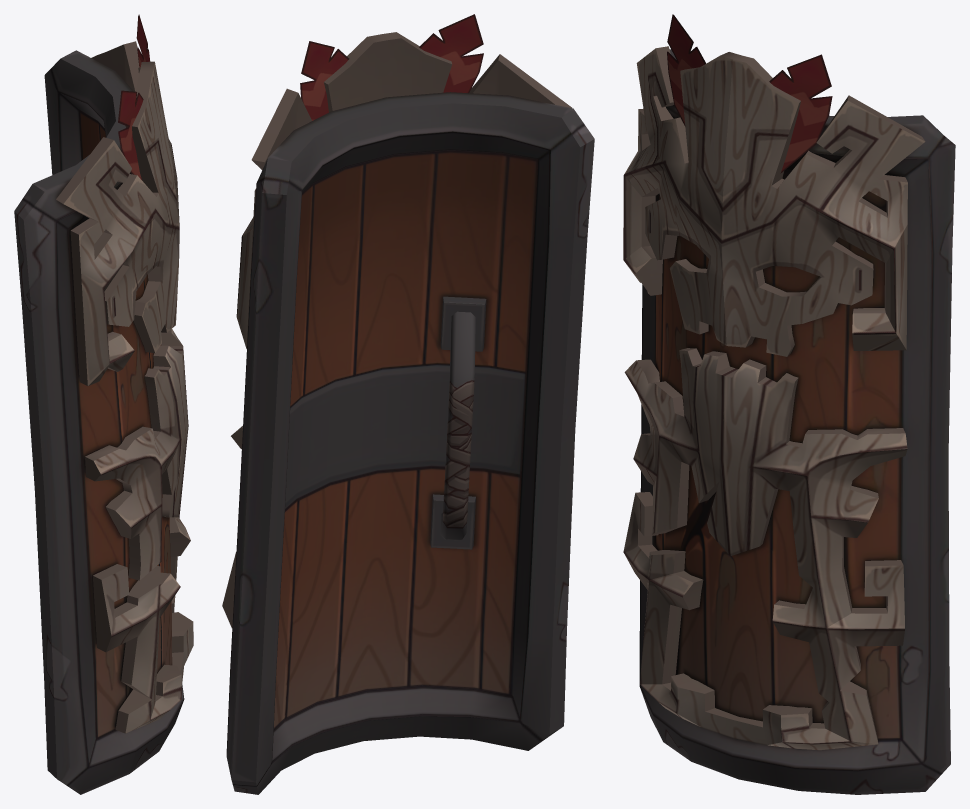
File: MonEquip_Shield_02_Model.fbx
3 renders of one model, left to right at view 1: azimuth 30°, elevation 25°; view 2: azimuth 150°, elevation 25°; view 3: azimuth 270°, elevation 25°, orthographic. The views are drawn at different scales.
Visible parts, largest first — view 1: MonEquip_Shield_02_Model; view 2: MonEquip_Shield_02_Model; view 3: MonEquip_Shield_02_Model.
Boxes of the visible parts, x1,y1,x2,y2 form: MonEquip_Shield_02_Model: (14,14,193,794); MonEquip_Shield_02_Model: (222,14,594,794); MonEquip_Shield_02_Model: (623,14,955,794).
Bounding box in the file's own units: 0.3946 × 1.07 × 0.4404.
1 material, 1 textured.
